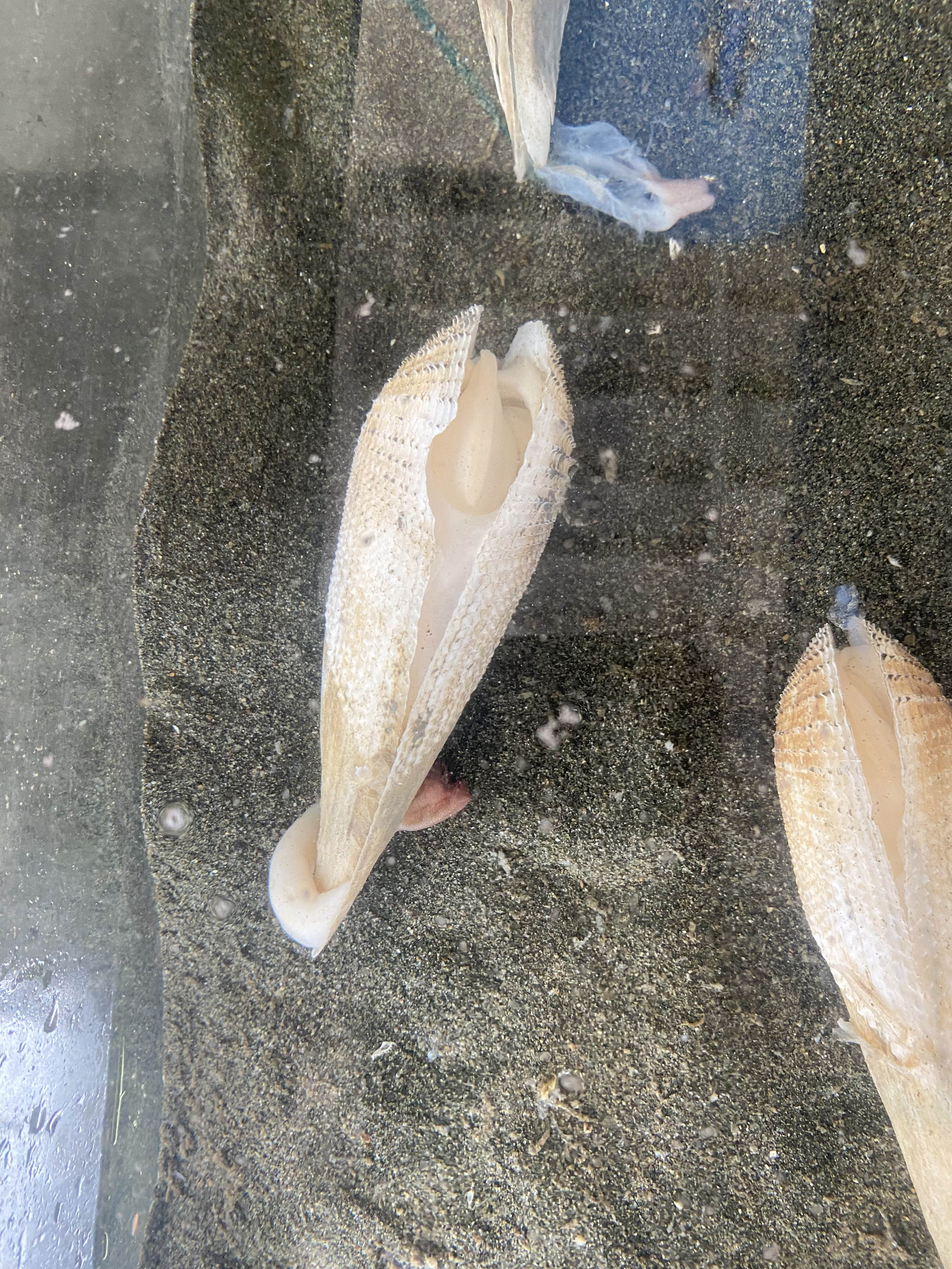At risk: (269, 306, 573, 954), (775, 587, 952, 1265), (479, 0, 710, 230)
